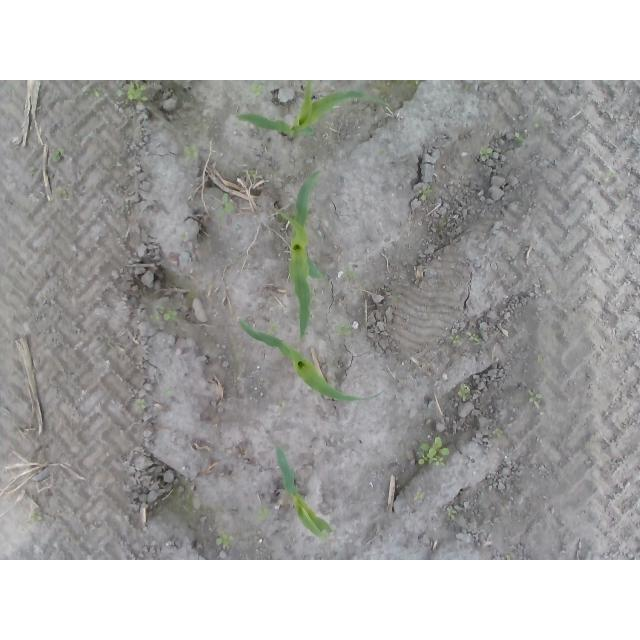Maize: (237, 317, 385, 404), (238, 80, 385, 140), (280, 170, 324, 343), (276, 446, 335, 538)
Weeds: (418, 436, 449, 466), (116, 80, 149, 102), (152, 303, 177, 321), (223, 192, 238, 213), (528, 387, 545, 405), (248, 83, 268, 98), (184, 143, 200, 161), (216, 533, 235, 548), (84, 86, 109, 97), (418, 184, 434, 200), (457, 383, 471, 401), (478, 146, 494, 161), (265, 320, 279, 336), (466, 332, 483, 345), (52, 144, 65, 160), (344, 270, 359, 281), (336, 323, 352, 333), (447, 507, 458, 521), (414, 489, 426, 501), (135, 398, 146, 411), (492, 428, 504, 439), (448, 334, 461, 344), (179, 231, 190, 242), (246, 167, 257, 178), (259, 508, 269, 520), (31, 511, 42, 521)
